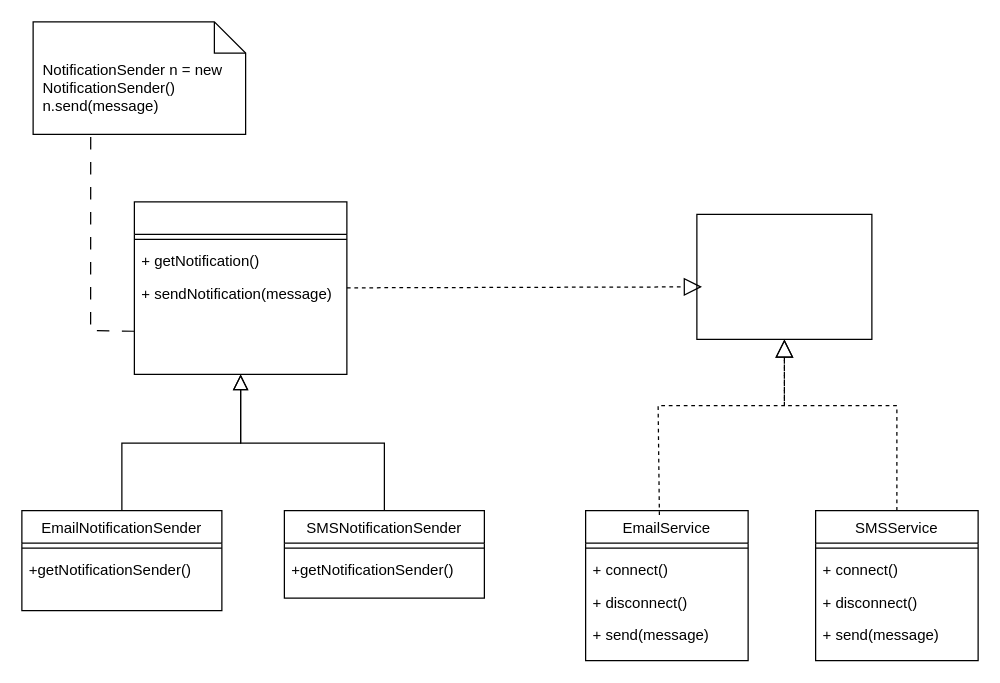
Image size: 1000x683. Some labels were removed from this diagram. The shapes that lost their labels are listed below. From the top down, each one's box as (x1, y1, x2, y2) in pixels, then its label:
(133, 201, 347, 374): NotificationSender
(696, 213, 872, 339): <<Interface>> NotificationService + connect() + disconnect() + send(message)
